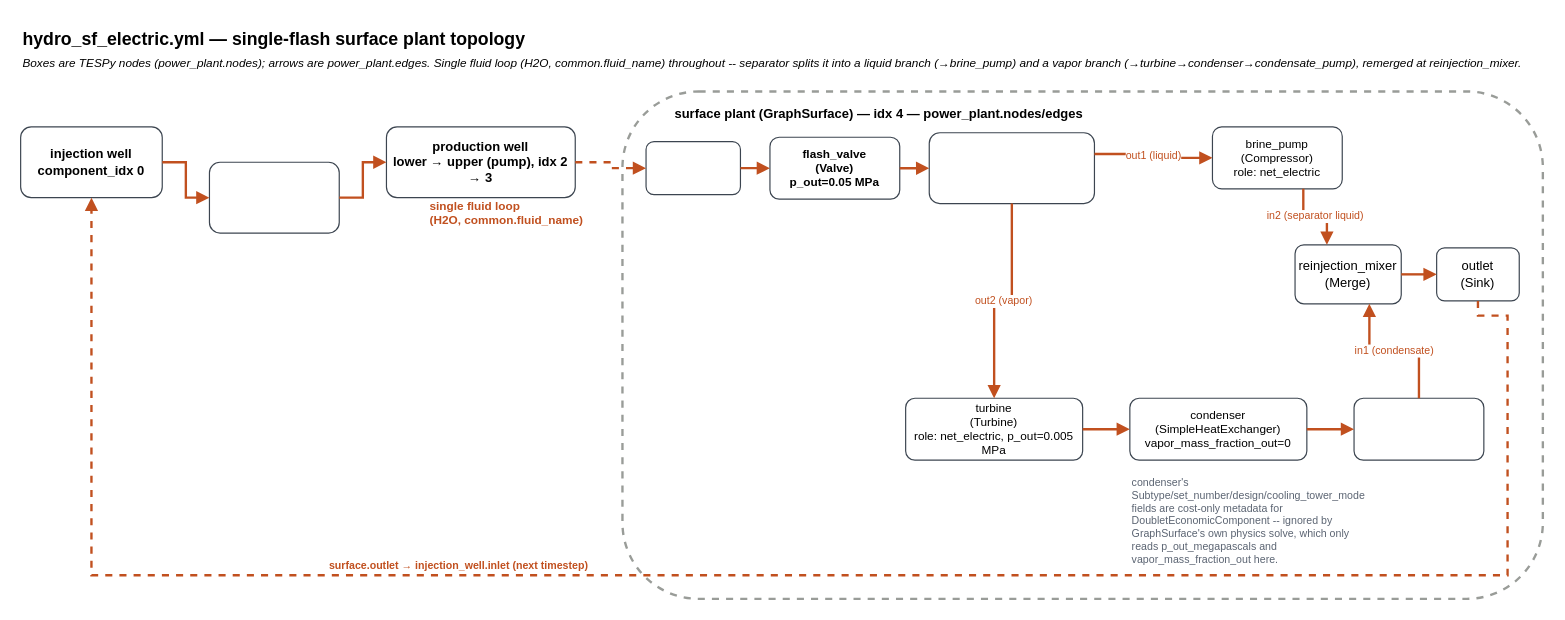
This 1565x620 diagram has some shape labels left out. The centre of each missing label's shape, as x and y in pixels:
"condensate_pump (Compressor) role: net_electric" belongs at point 1418,428.
"inlet (Source)" belongs at point 692,167.
"reservoir idx 1" belongs at point 273,197.
"separator (DropletSeparator)" belongs at point 1011,168.
